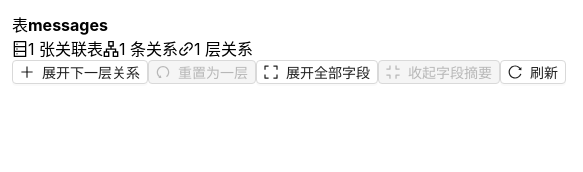
Scenario: DataGridErDiagram › tracks relation depth from the toolbar controls
Click the button "展开下一层关系" at (80, 72), box [12,60,148,84]
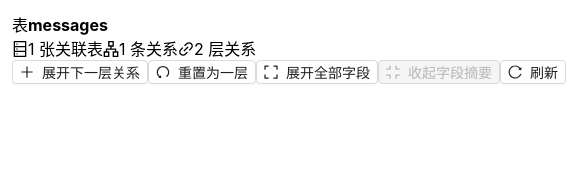
Expected: the text "2 层关系" is shown, [178,39,256,59]
Click the button "重置为一层" at (202, 72), box [148,60,256,84]
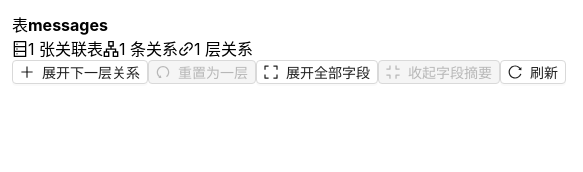
Expected: the text "1 层关系" is shown, [178,39,253,59]
